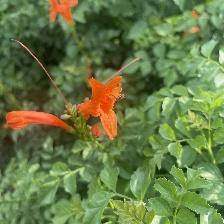honeysuckle: (78, 72, 131, 145)
